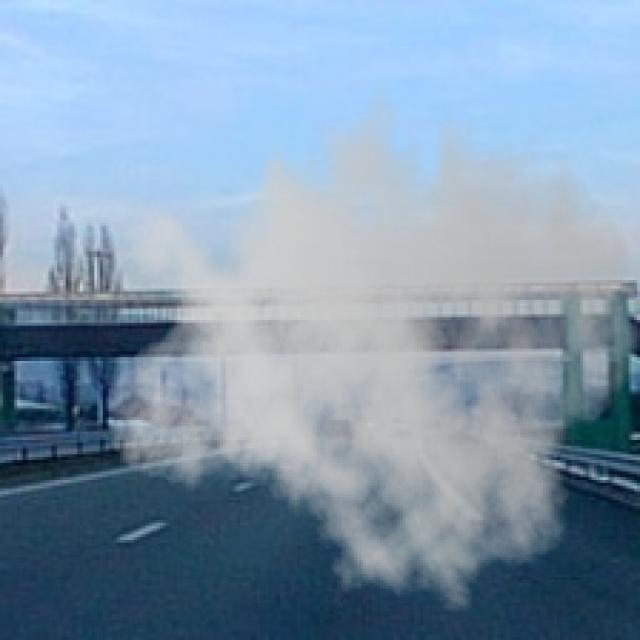Smoke: (102, 57, 638, 629)
